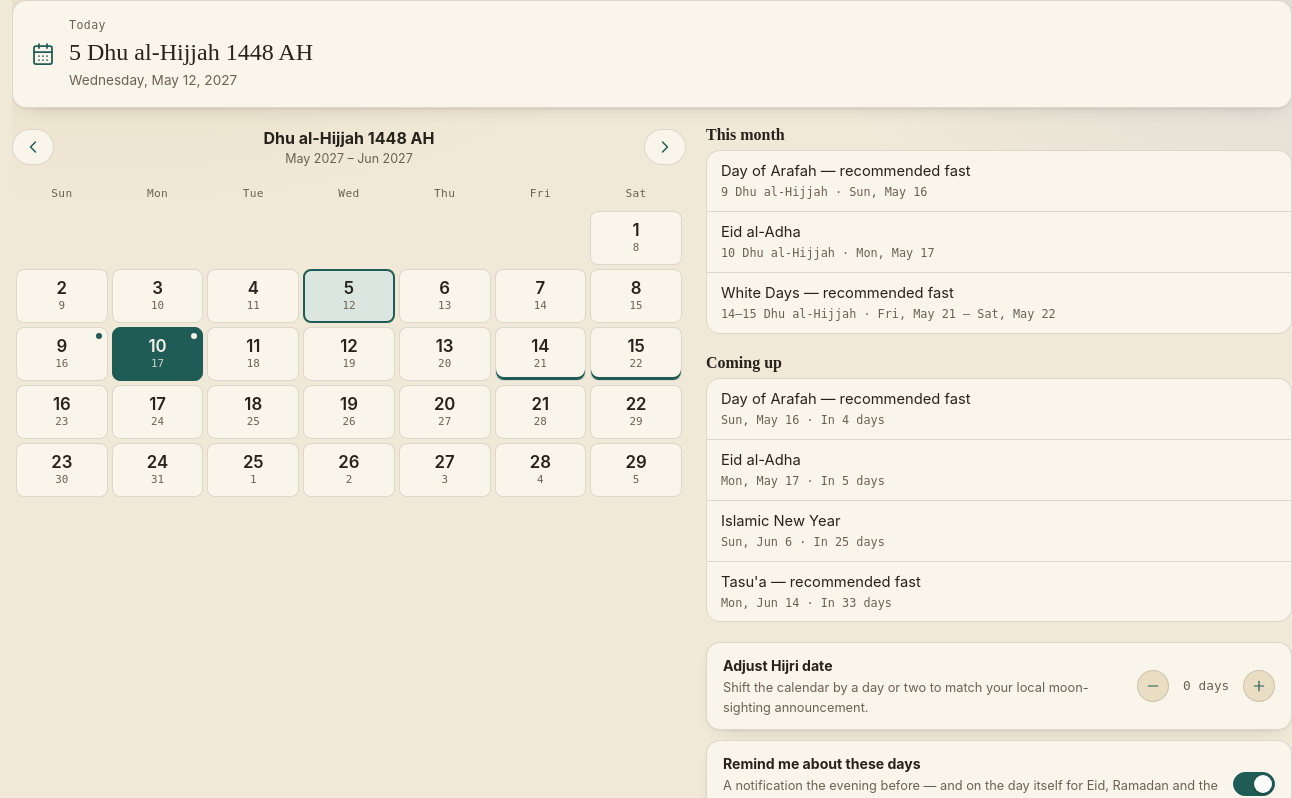
Test case: HijriCalendar — navigation › moves between months and rolls the year over
This screenshot has width=1292, height=798.
Click the button named "Next month": {"x": 665, "y": 147} [644,129,686,165]
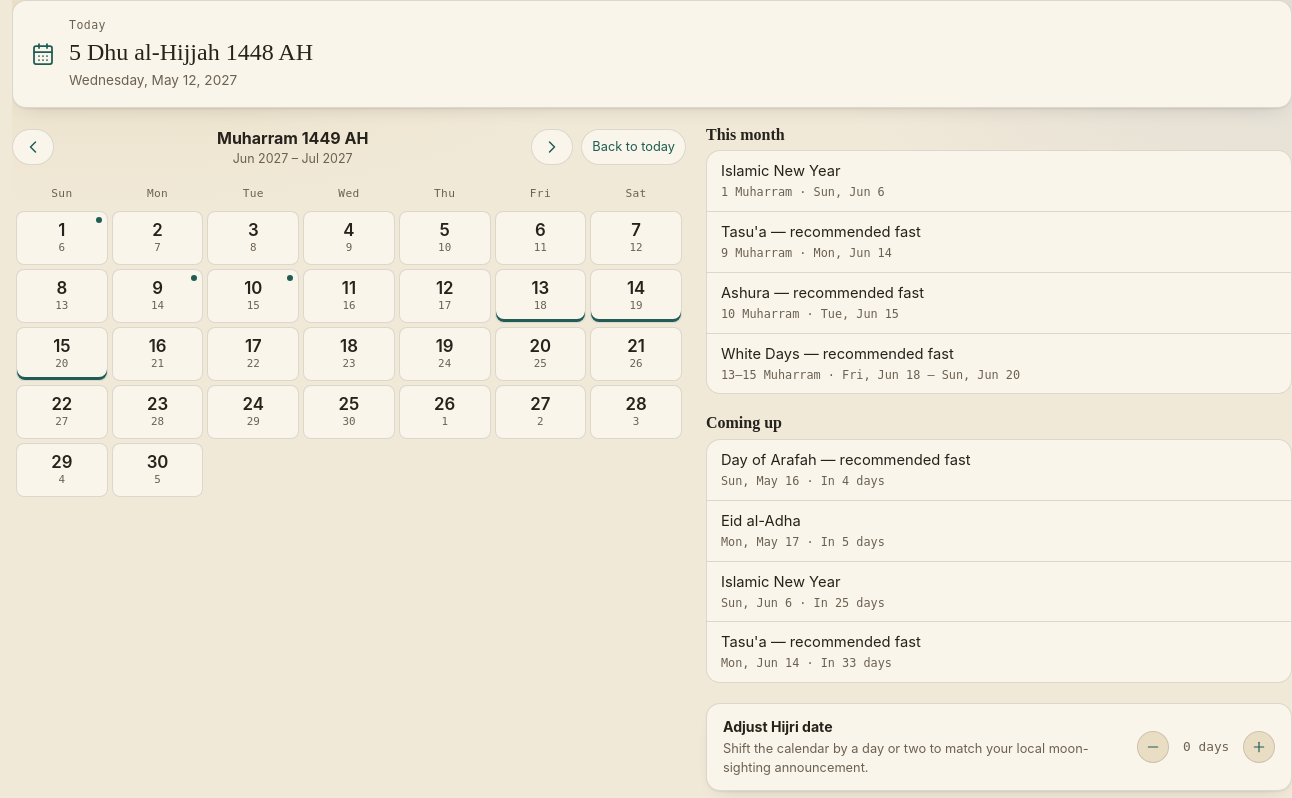
Expected: the text "Muharram 1449 AH" is shown, [217,126,368,150]
Click the button named "Previous month": {"x": 33, "y": 147} [12,129,54,165]
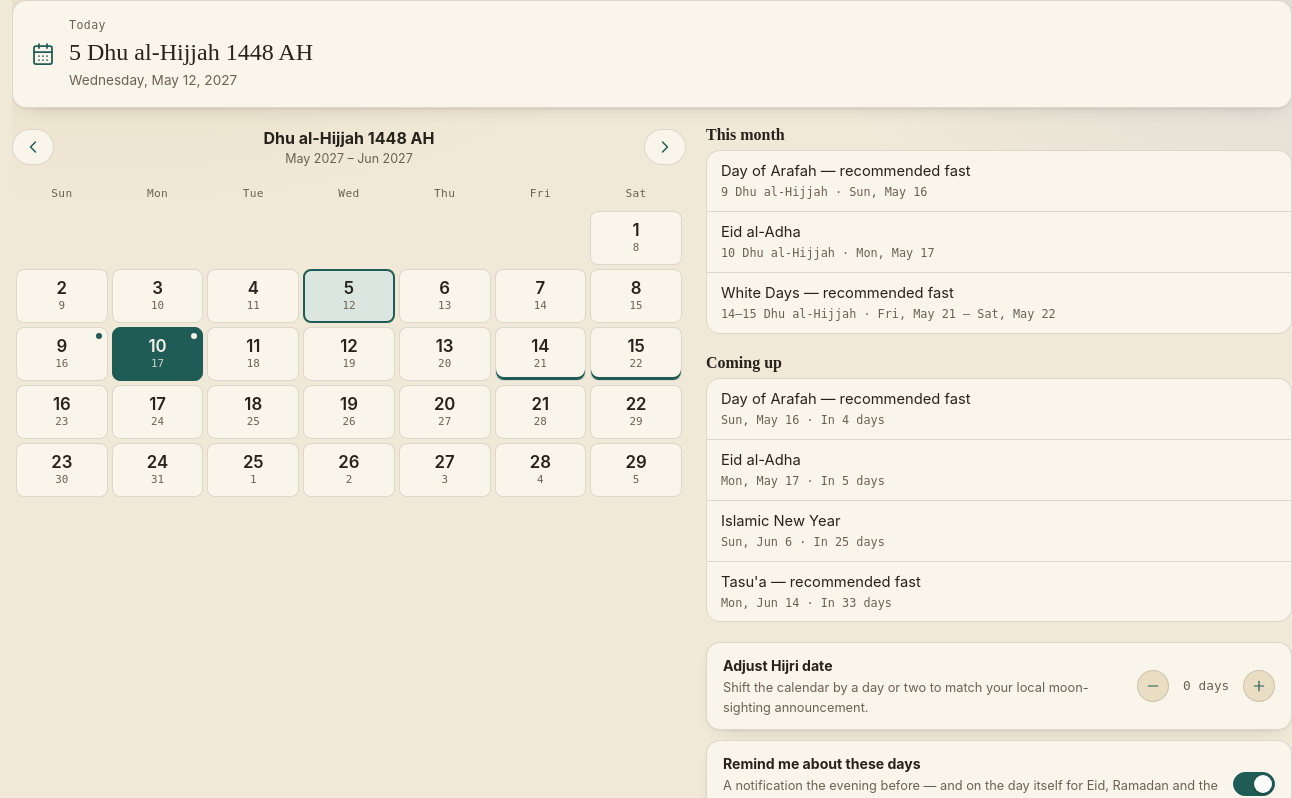
Click the button named "Previous month": {"x": 33, "y": 147} [12,129,54,165]
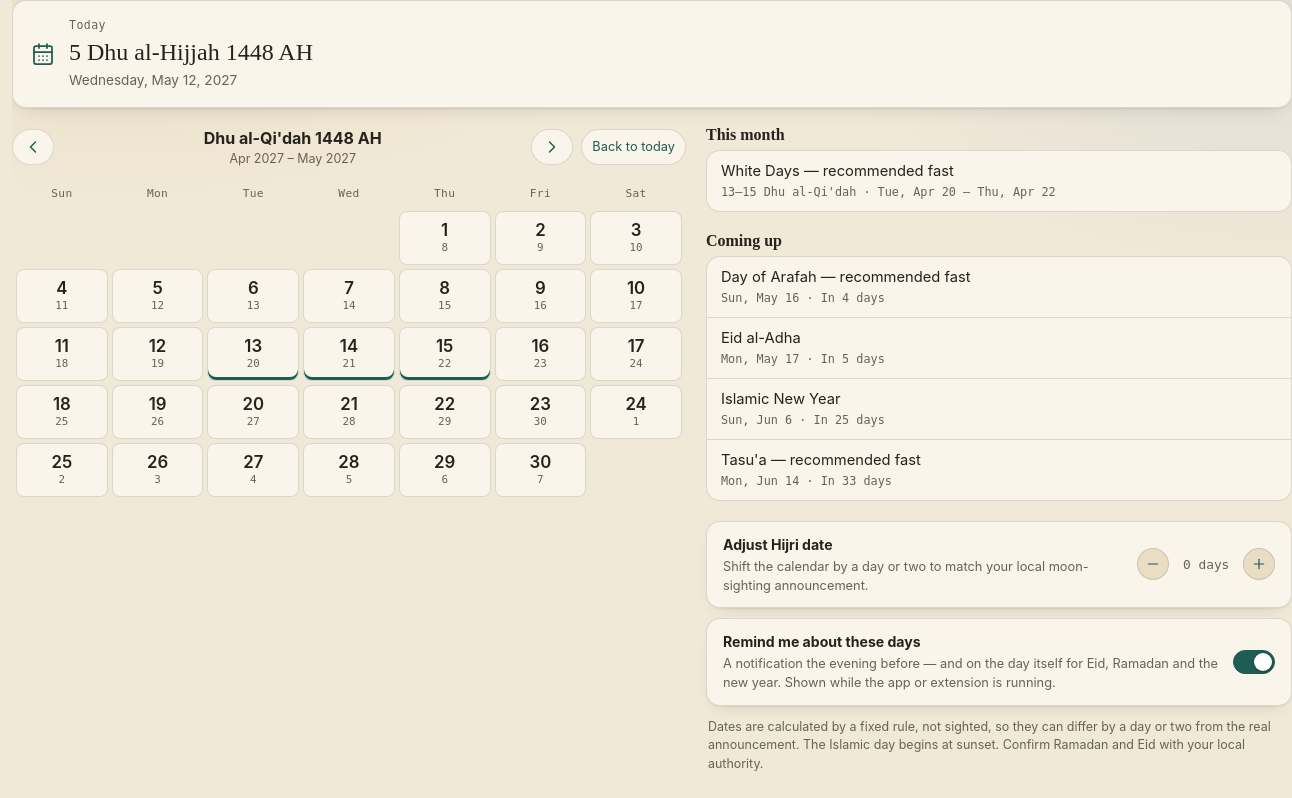
Expected: the text "Dhu al-Qi'dah 1448 AH" is shown, [204,126,382,150]
